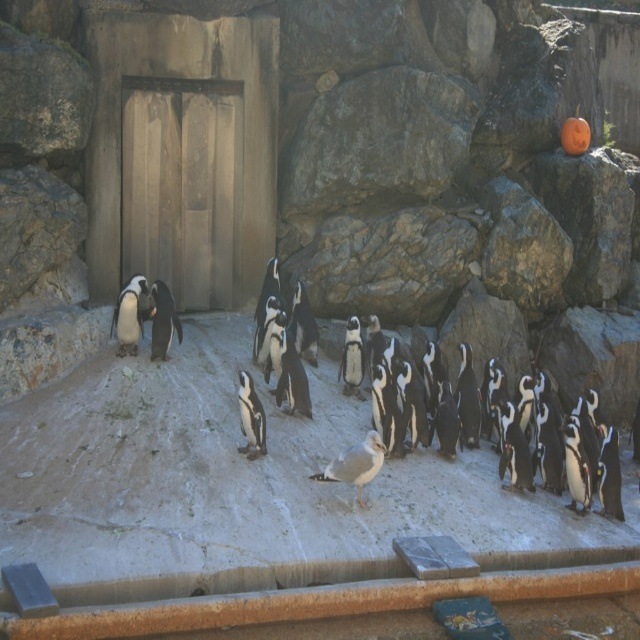Penguin: (483, 350, 628, 523), (366, 307, 479, 461), (255, 258, 318, 427), (108, 272, 151, 357), (235, 368, 267, 469), (144, 280, 184, 360), (336, 314, 366, 405)
